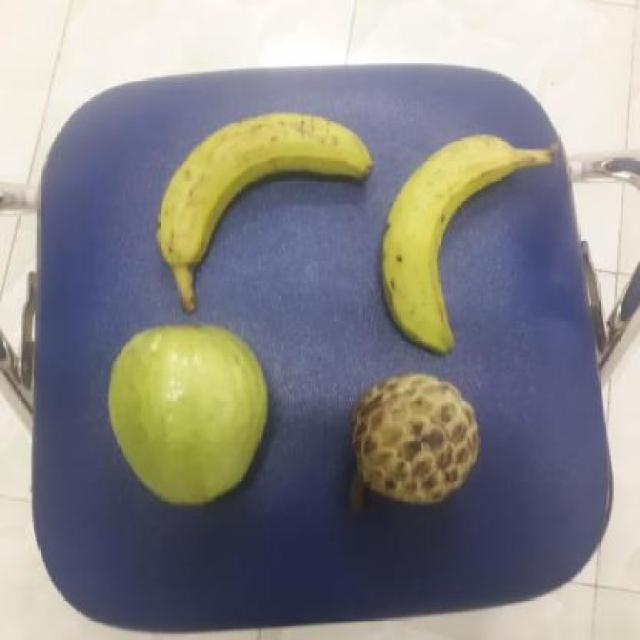banana: (152, 106, 378, 272), (374, 122, 520, 356)
guava: (106, 320, 274, 511)
sugar apple: (348, 370, 483, 508)
